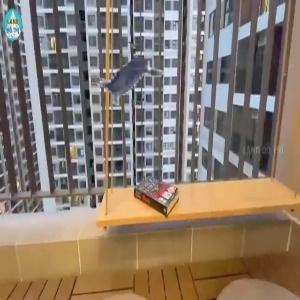drone: (72, 20, 189, 137)
